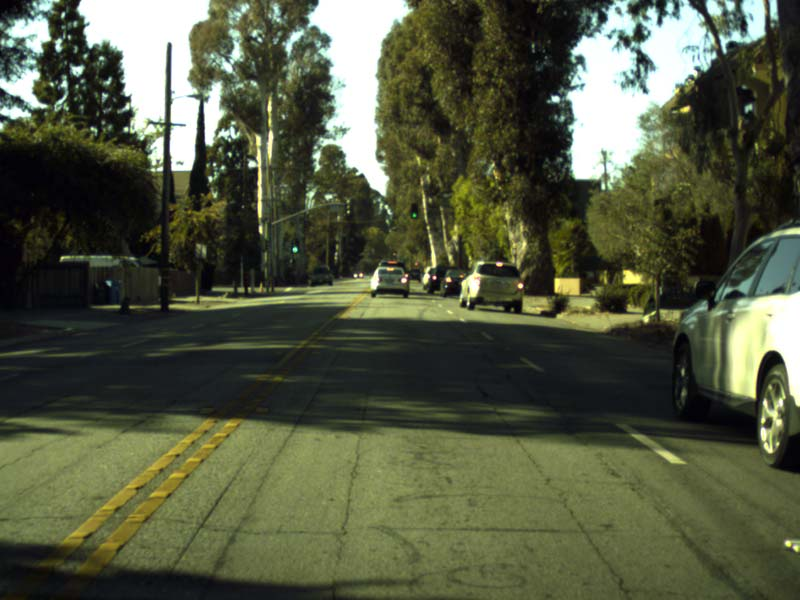Green: (410, 203, 417, 219), (292, 239, 298, 254)
